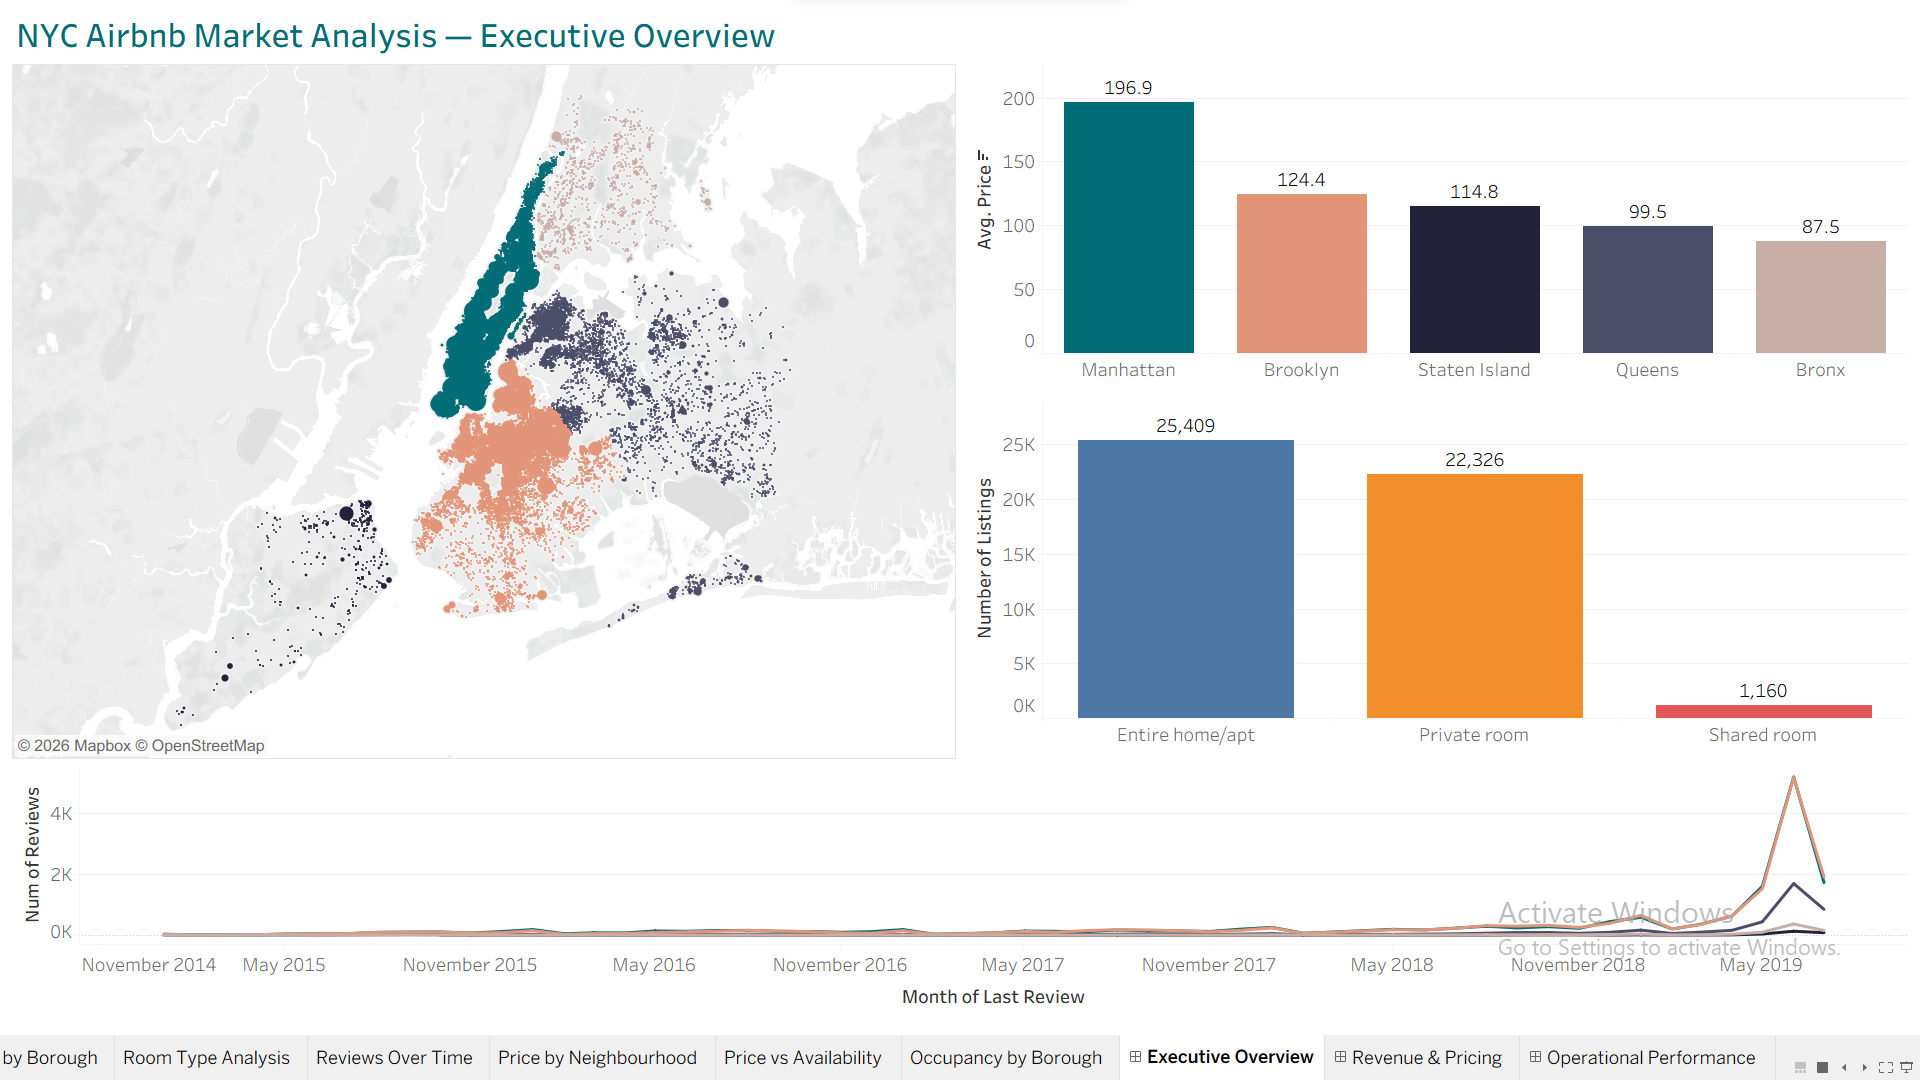

Layout of this report page (visuals, bound fields, positions):
{"tool":"tableau","page":{"name":"Executive Overview","canvas":[1000,1000],"units":"permille","ordinal":0},"visuals":[{"type":"title","box":[5,9.9,990,64.5]},{"type":"worksheet","title":"Listings Map","mark":"Automatic","rows":["latitude"],"cols":["longitude"],"box":[5,74.5,495,665.3]},{"type":"worksheet","title":"Price by Borough","mark":"Automatic","rows":["price"],"cols":["neighbourhood_group"],"box":[500,74.5,495,319.3]},{"type":"worksheet","title":"Room Type Analysis","mark":"Automatic","rows":["AB_NYC_2019.csv_78445760087B4F0C950F619FBCCA5E88"],"cols":["room_type"],"box":[500,393.8,495,346]},{"type":"worksheet","title":"Reviews Over Time","mark":"Line","rows":["AB_NYC_2019.csv_78445760087B4F0C950F619FBCCA5E88"],"cols":["last_review"],"box":[5,739.7,990,250.4]}]}

Visuals, with their boxes on the dashboard's canvas, which has no fixed pixel size, in thousandths of its width and height (x1, y1, x2, y2). These are canvas units, not pixel positions in the 1920x1080 screenshot, which may show the page scaled, cropped or inside an application window:
title: 5:10:995:74
"Listings Map" worksheet: 5:74:500:740
"Price by Borough" worksheet: 500:74:995:394
"Room Type Analysis" worksheet: 500:394:995:740
"Reviews Over Time" worksheet (Line marks): 5:740:995:990
